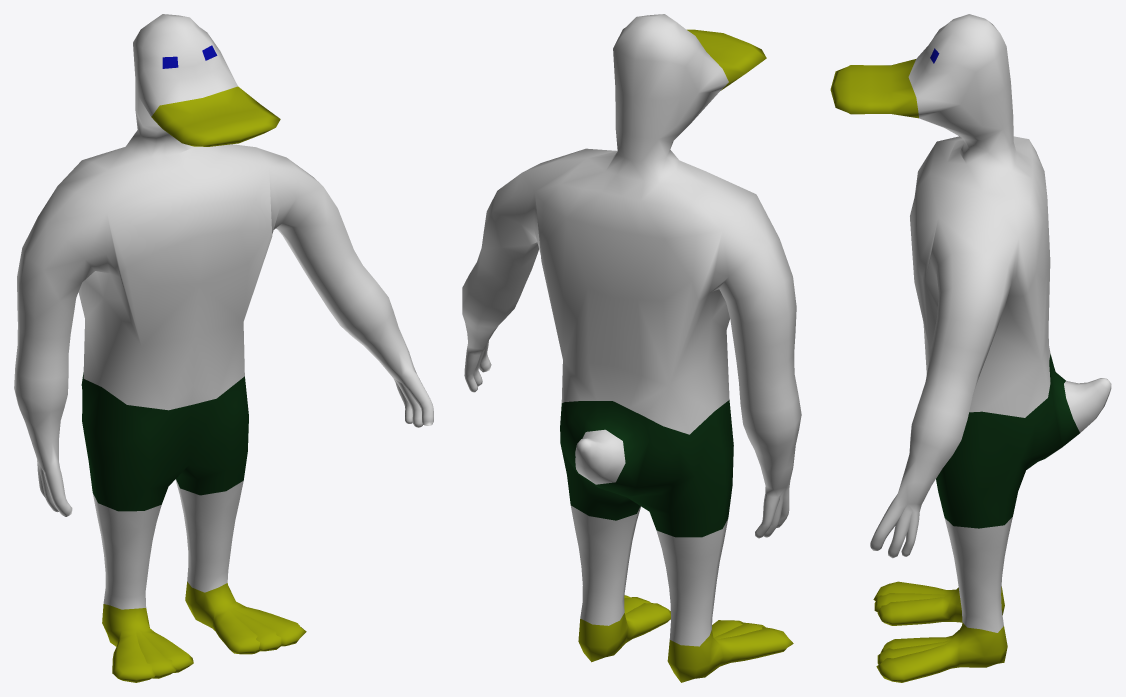
File: canard_qui_salue_000022.obj
The picture shows the model from 3 angles, left to right: view 1: azimuth 30°, elevation 25°; view 2: azimuth 150°, elevation 25°; view 3: azimuth 270°, elevation 25°; orthographic projection. The views are drawn at different scales.
Visible parts, largest first — view 1: Cube; view 2: Cube; view 3: Cube.
Part boxes in pixels (bbox=[...]): Cube: bbox=[14, 14, 433, 682]; Cube: bbox=[462, 14, 801, 682]; Cube: bbox=[830, 14, 1111, 682].
Bounding box in the file's own units: 1.71 × 2.8 × 1.14.
